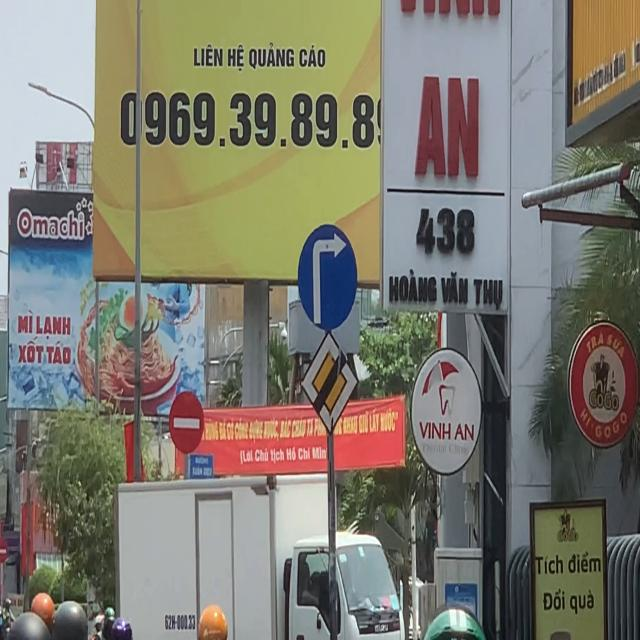Cam nguoc chieu: (169, 391, 204, 454)
Re phai: (297, 223, 358, 331)
